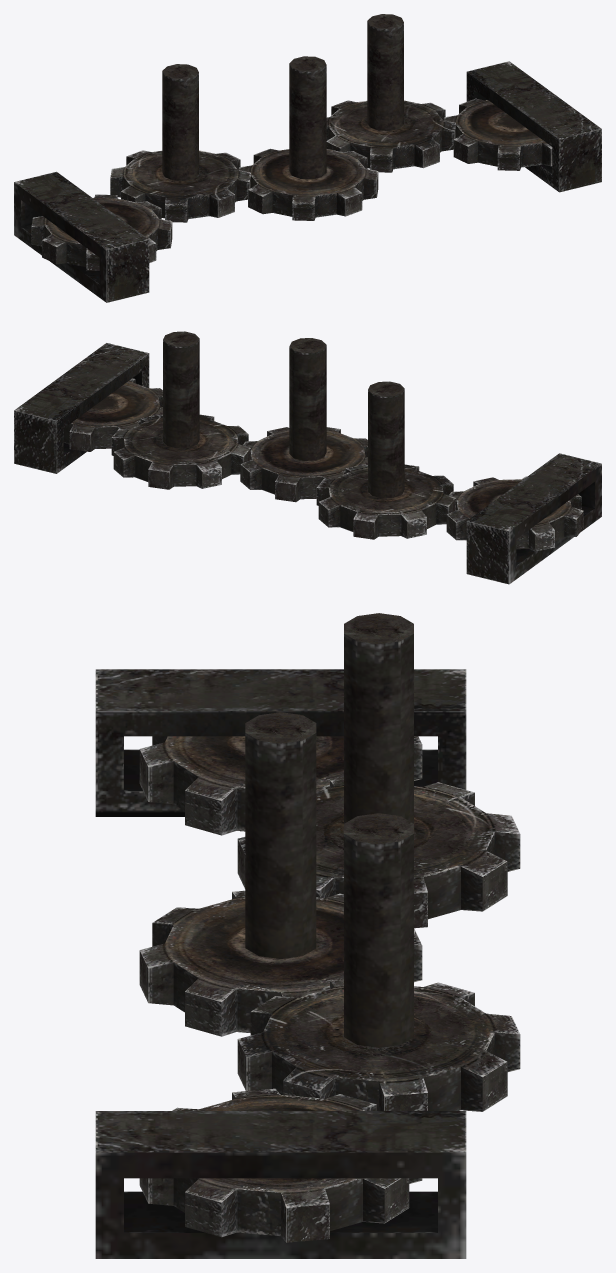
Rendered from ceiling_machinery.dae.
The picture shows the model from 3 angles, top to bottom: view 1: azimuth 30°, elevation 25°; view 2: azimuth 150°, elevation 25°; view 3: azimuth 270°, elevation 25°; orthographic projection. The views are drawn at different scales.
Visible parts, largest first — view 1: polySurface6, polySurface2, cog2, cog3, cog1, cogWall, polySurface4, polySurface3, polySurface5, cogWall1; view 2: polySurface6, polySurface2, cog3, cog1, cog2, polySurface4, polySurface3, polySurface5, cogWall1, cogWall; view 3: polySurface2, cog1, polySurface6, cog2, polySurface4, polySurface3, cogWall, cog3, polySurface5, cogWall1.
Boxes of the visible parts, x1=… form: polySurface6: x1=14, y1=171, x2=149, y2=302; polySurface2: x1=466, y1=61, x2=601, y2=192; cog2: x1=238, y1=148, x2=378, y2=220; cog3: x1=110, y1=150, x2=250, y2=222; cog1: x1=326, y1=100, x2=455, y2=172; cogWall: x1=444, y1=98, x2=552, y2=170; polySurface4: x1=289, y1=56, x2=326, y2=179; polySurface3: x1=367, y1=14, x2=403, y2=130; polySurface5: x1=162, y1=64, x2=198, y2=180; cogWall1: x1=31, y1=194, x2=172, y2=270; polySurface6: x1=466, y1=453, x2=601, y2=584; polySurface2: x1=14, y1=343, x2=149, y2=473; cog3: x1=316, y1=464, x2=455, y2=539; cog1: x1=111, y1=414, x2=250, y2=489; cog2: x1=240, y1=427, x2=367, y2=502; polySurface4: x1=289, y1=338, x2=326, y2=460; polySurface3: x1=163, y1=331, x2=199, y2=448; polySurface5: x1=368, y1=381, x2=404, y2=498; cogWall1: x1=446, y1=476, x2=583, y2=551; cogWall: x1=63, y1=378, x2=162, y2=451; polySurface2: x1=95, y1=1111, x2=466, y2=1258; cog1: x1=237, y1=979, x2=520, y2=1111; polySurface6: x1=95, y1=669, x2=466, y2=816; cog2: x1=139, y1=890, x2=422, y2=1036; polySurface4: x1=245, y1=712, x2=316, y2=958; polySurface3: x1=344, y1=813, x2=413, y2=1047; cogWall: x1=139, y1=1088, x2=422, y2=1242; cog3: x1=237, y1=779, x2=520, y2=928; polySurface5: x1=344, y1=613, x2=413, y2=823; cogWall1: x1=139, y1=736, x2=422, y2=835.
Size of the model in its own units: 2.04 by 0.5279 by 0.7025.
